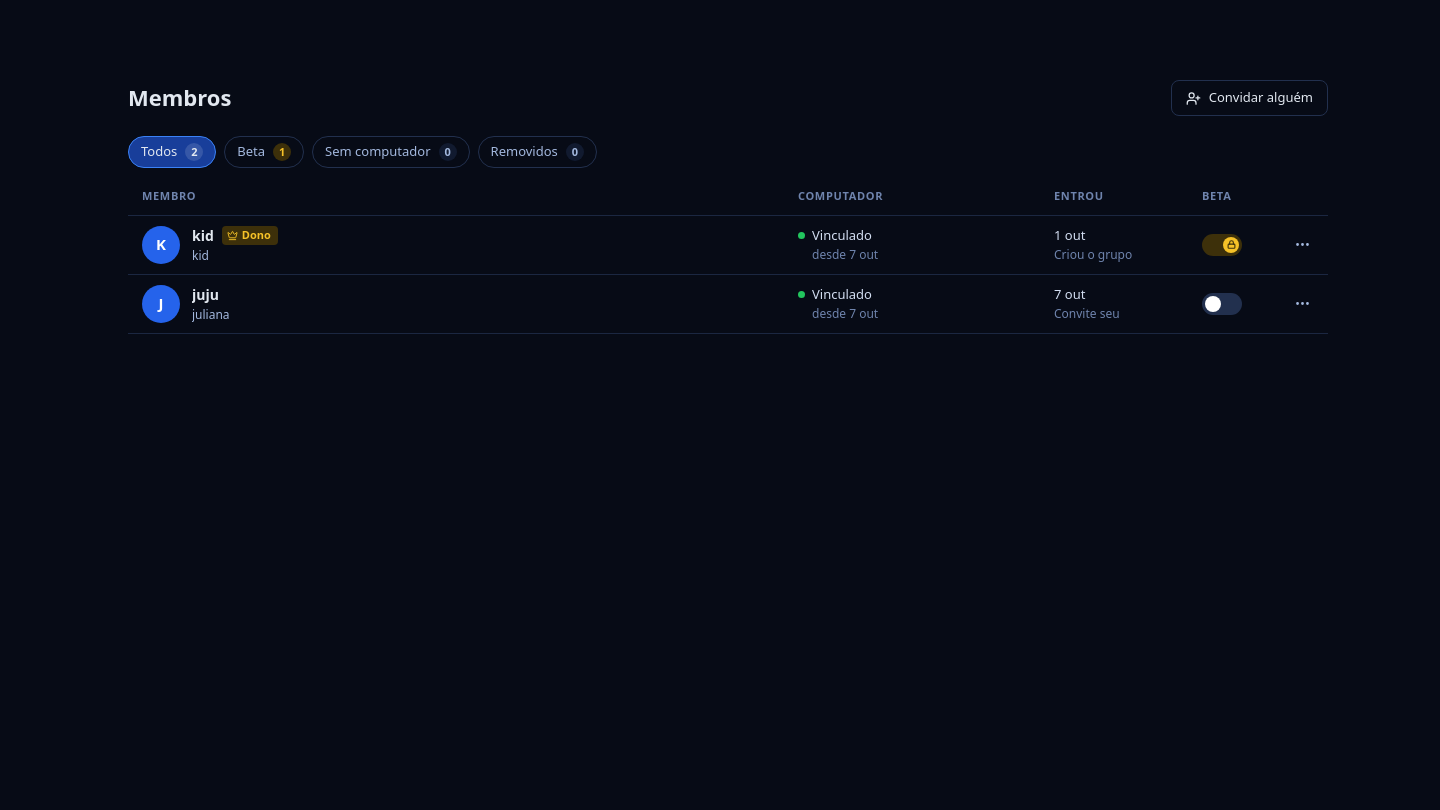
Scenario: ações do membro › a gaveta mostra as permissões que a API devolve
The image size is (1440, 810).
Click the button with aria-label "Detalhes de juju". click: click(161, 304)
box: [142, 284, 782, 322]
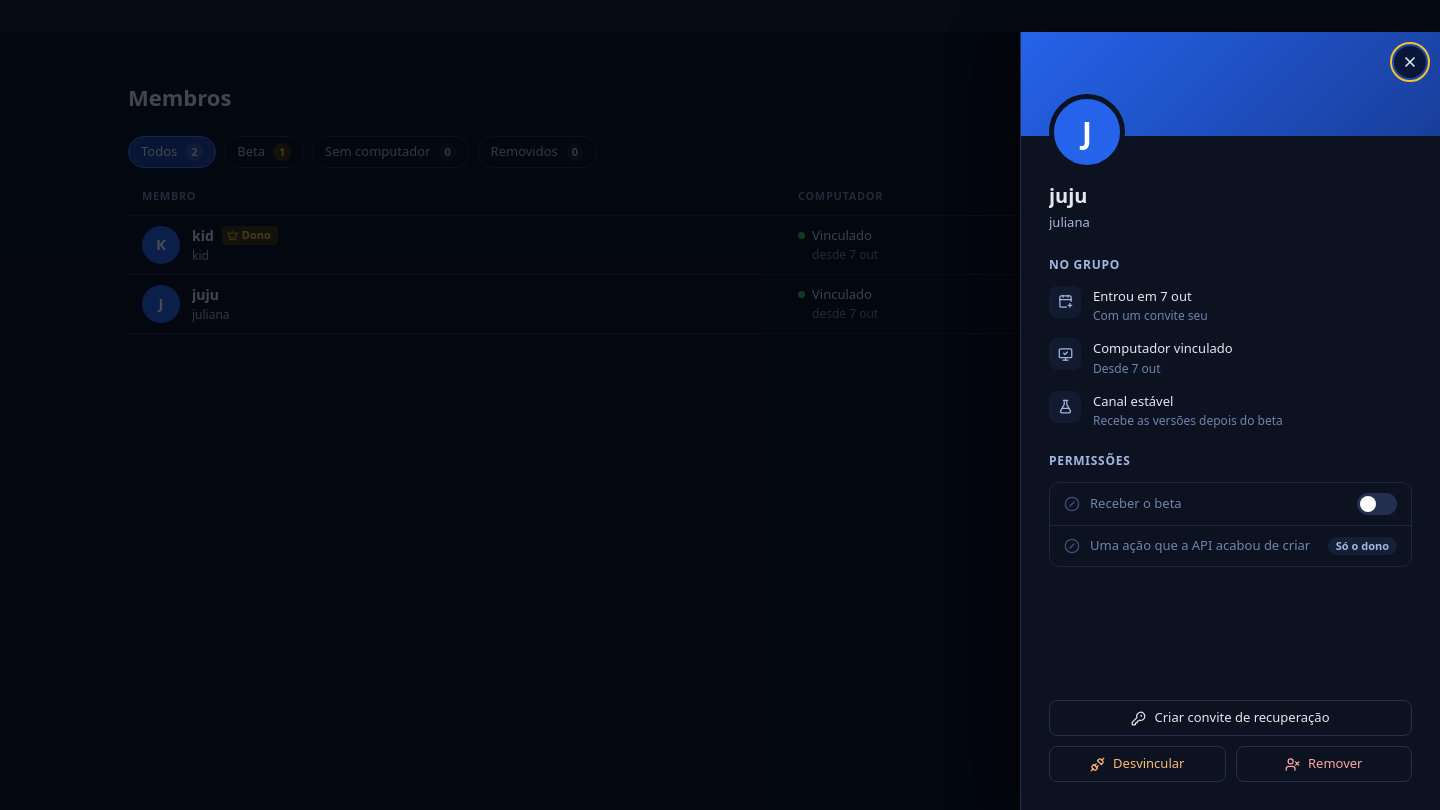
expect the text "Uma ação que a API acabou de criar" is shown: met, box [1090, 536, 1318, 556]
expect the switch named "Receber o beta para juju" is not checked: met, box [1357, 493, 1397, 515]
expect the text "Só o dono" is shown: met, box [1328, 536, 1397, 555]
